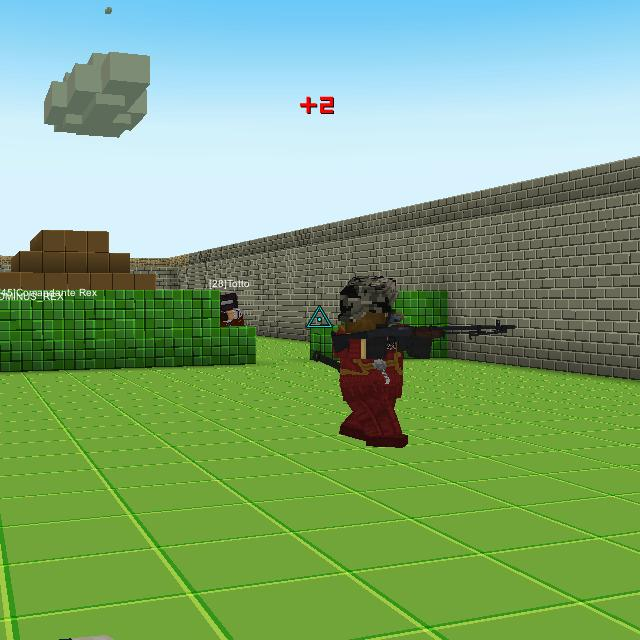enemy: (324, 266, 439, 449)
